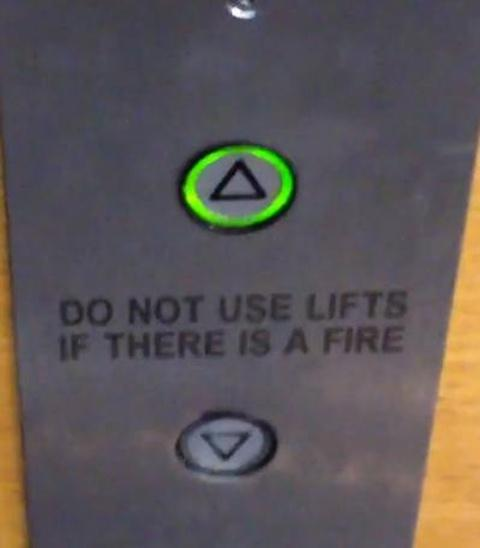down: (171, 406, 277, 478)
up: (176, 139, 297, 233)
